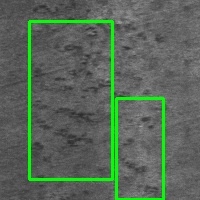rolled-in_scale: (29, 21, 112, 179), (116, 98, 163, 199)
